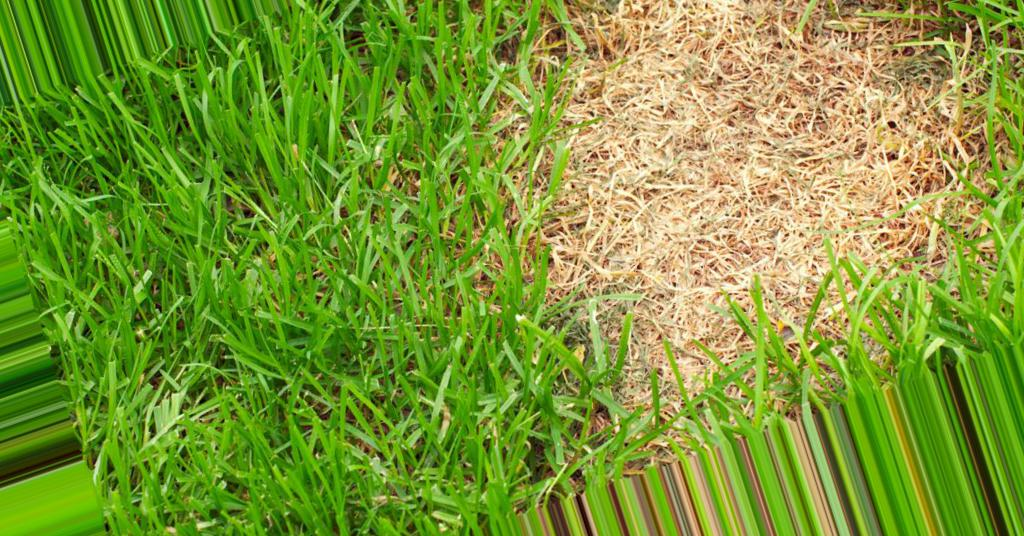patch: (623, 51, 823, 297), (835, 64, 925, 202), (571, 118, 606, 247), (635, 8, 760, 43), (644, 301, 736, 329)
